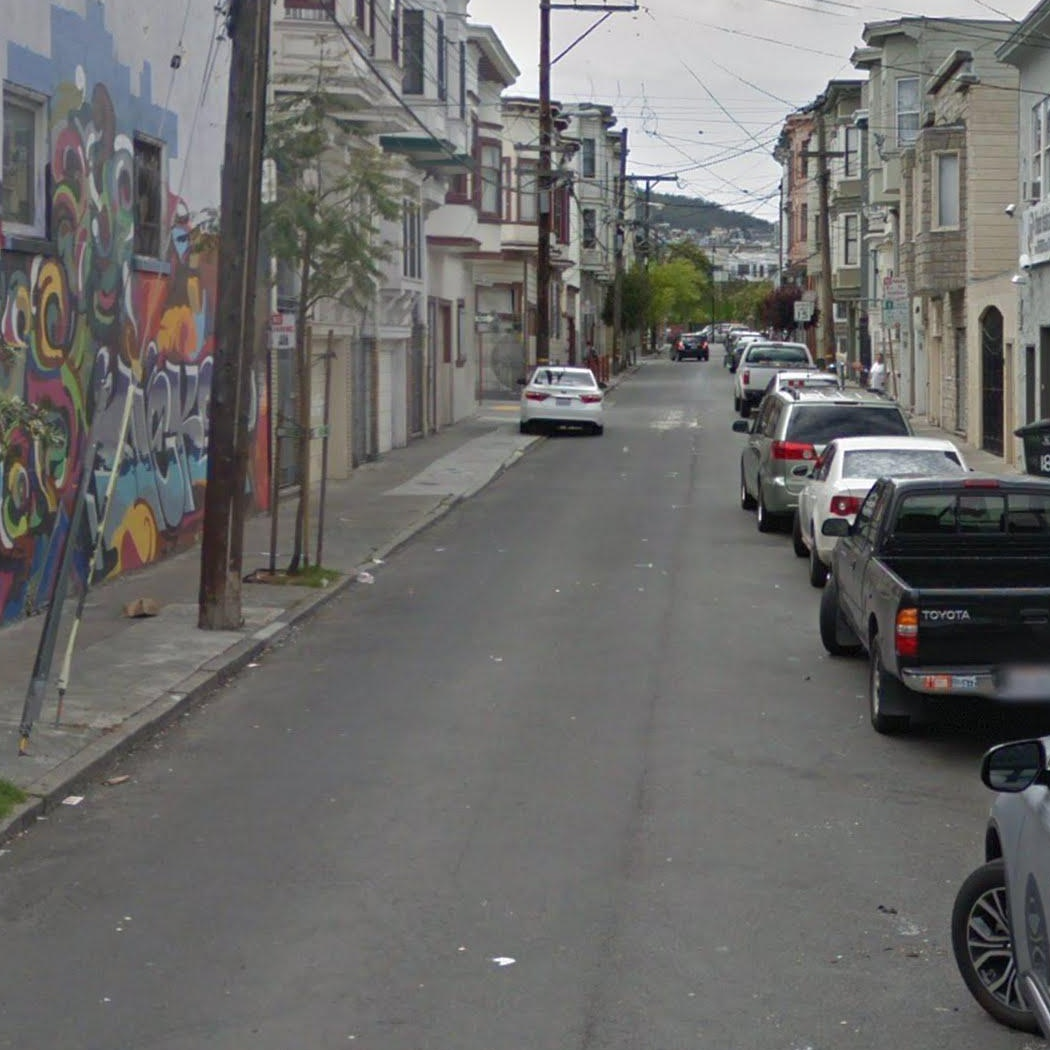1 Hour Parking: (884, 300, 908, 321)
No Parking: (882, 278, 910, 298)
No Parking Anytime: (267, 310, 299, 350)
